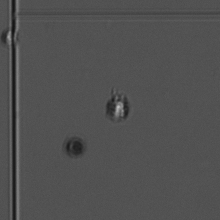Dead Cell: (58, 131, 92, 165)
Living Cell: (102, 89, 137, 124)
